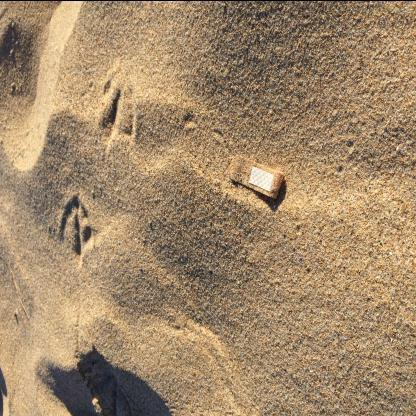diger: (230, 155, 285, 200)
